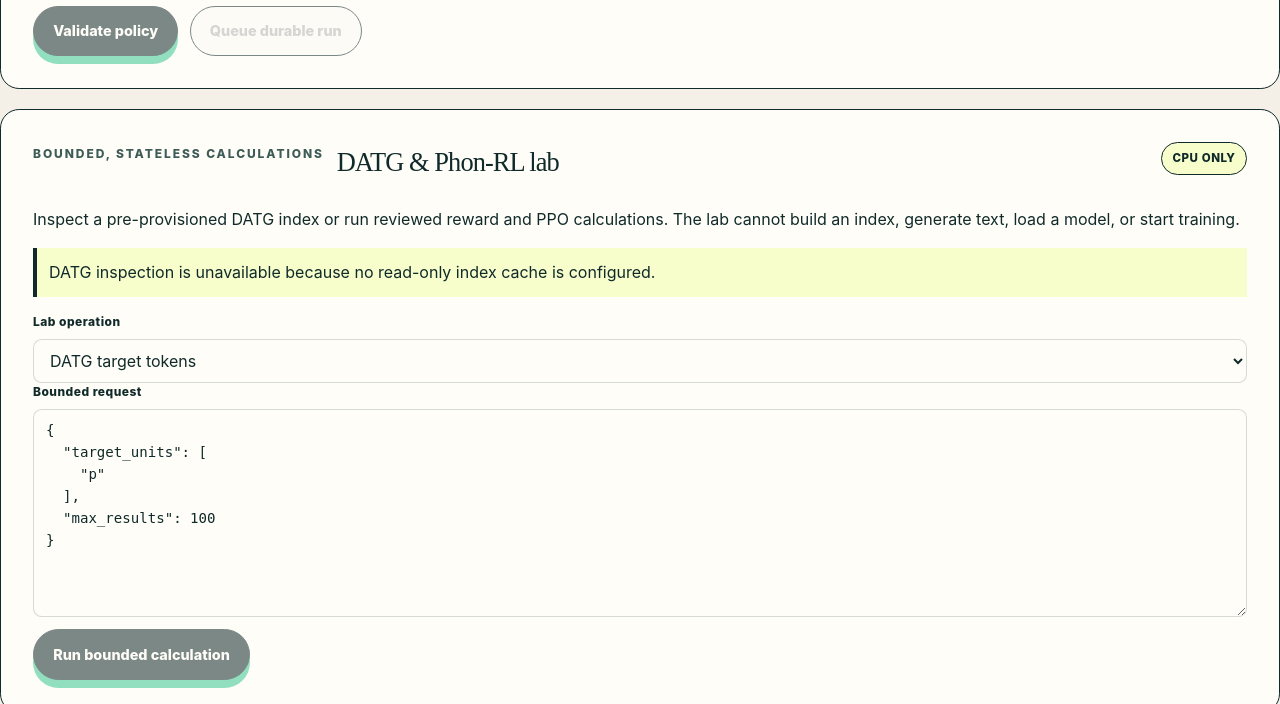
Test case: advanced runtime workbench › runs only allowlisted bounded lab operations and explains DATG unavailability
(page scrolled)
Expected: the text "DATG inspection is unavailable because no read-only index cache is configured." is shown, [33,248,1247,297]
Select "PPO KL penalty" in the dropdown labelled "Lab operation" at coordinates (640, 361), box [33,338,1247,383]
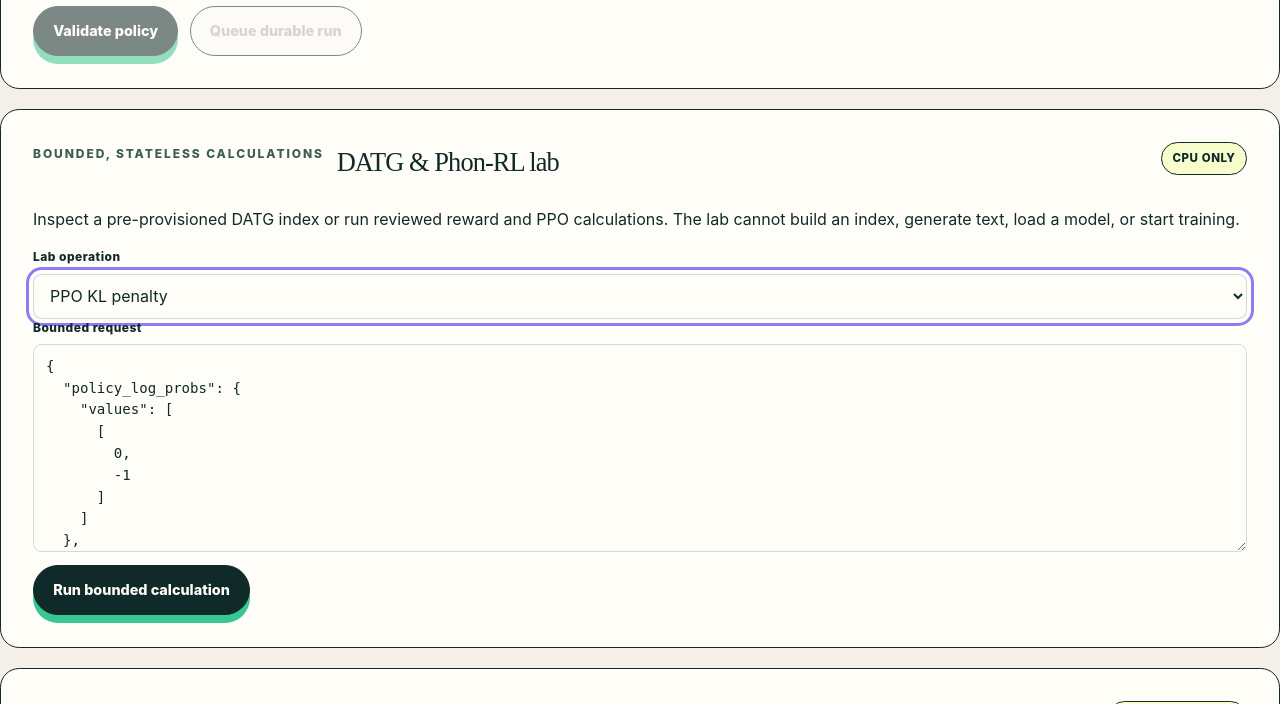
Expected: the text "no read-only index cache is configured" is gone
Click the button "Run bounded calculation".
click(142, 590)  # box [33,565,250,615]
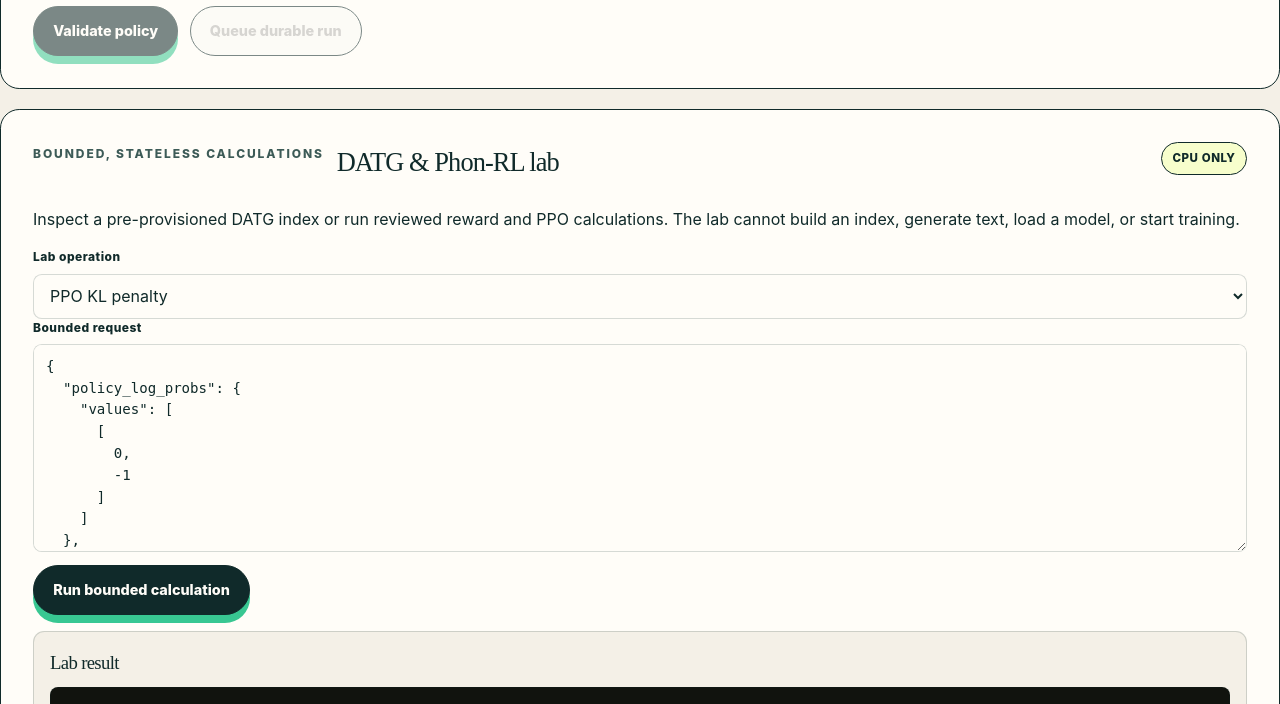
Expected: the heading "Lab result" is shown, [50,652,119,673]
